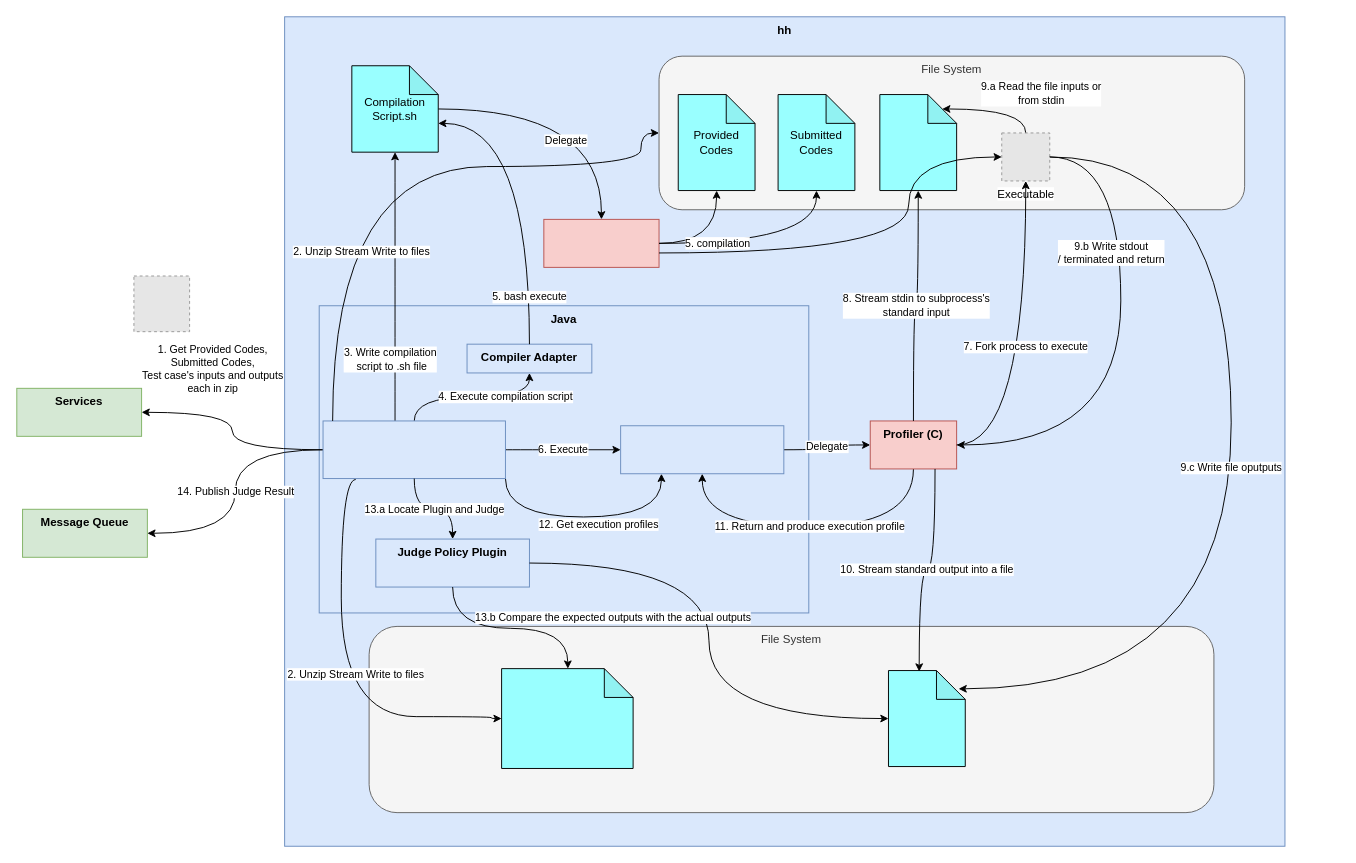
Image size: 1356x863. Some labels were removed from this diagram. Grey dashed boxes stand in for pictures. The shapes that lost their labels are listed below. From the top down, each one's centre as x and y in pixels, then its label:
the point at 918,142: Test Case's Stdin / File inputs
the point at 601,242: GCC Compiler
the point at 413,449: Judger
the point at 702,449: Program Profiler Adapter
the point at 567,718: Test Case's Expected Stdout / File outputs
the point at 926,718: Actual Stdout / File Outputs
